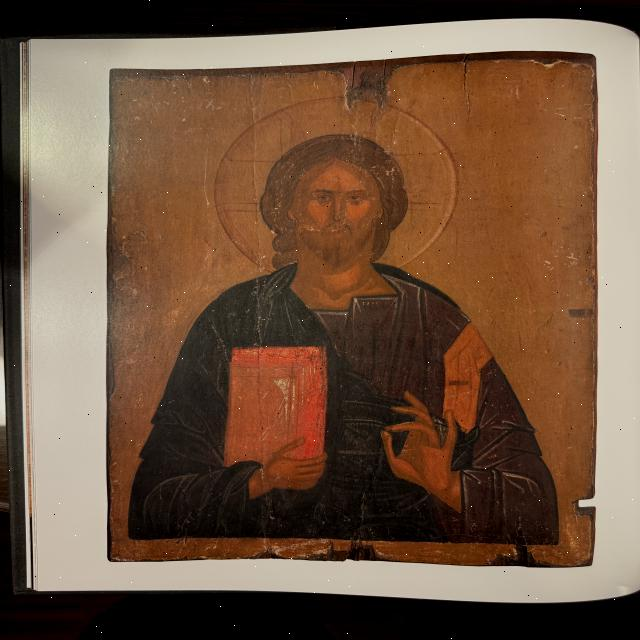aura: (209, 94, 466, 286)
book: (217, 343, 335, 491)
christ_hand: (122, 87, 565, 543), (372, 390, 476, 512)
